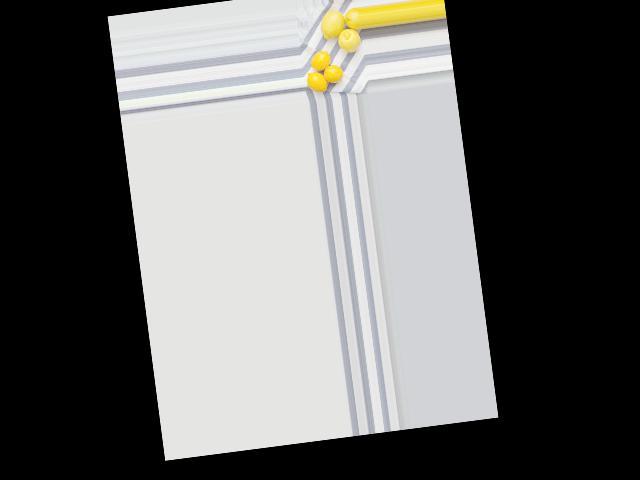lemon: (305, 69, 328, 94)
